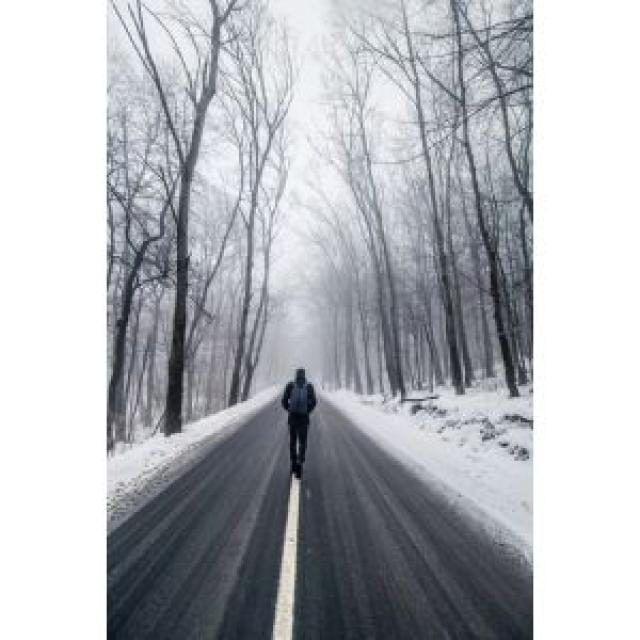nonfall: (276, 368, 338, 489)
